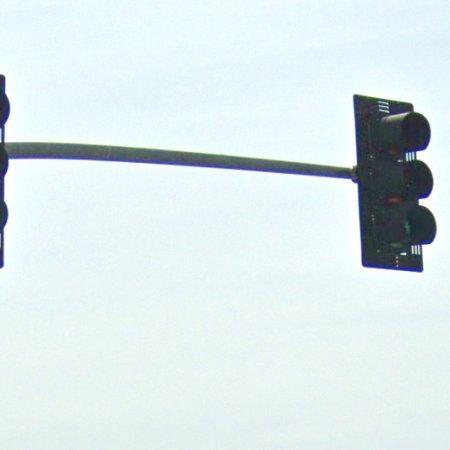traffic lights: (356, 95, 438, 271)
